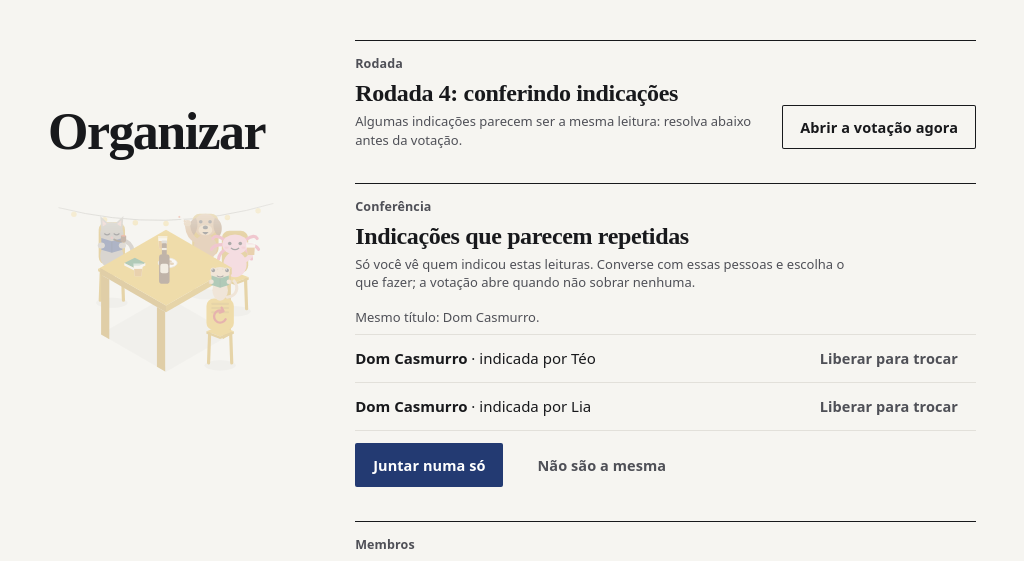
Test: ConflictsPanel › merges a group into one reading with a head start, and clears the review
Click the button "Juntar numa só" at (429, 465), box 355,443 -> 504,487
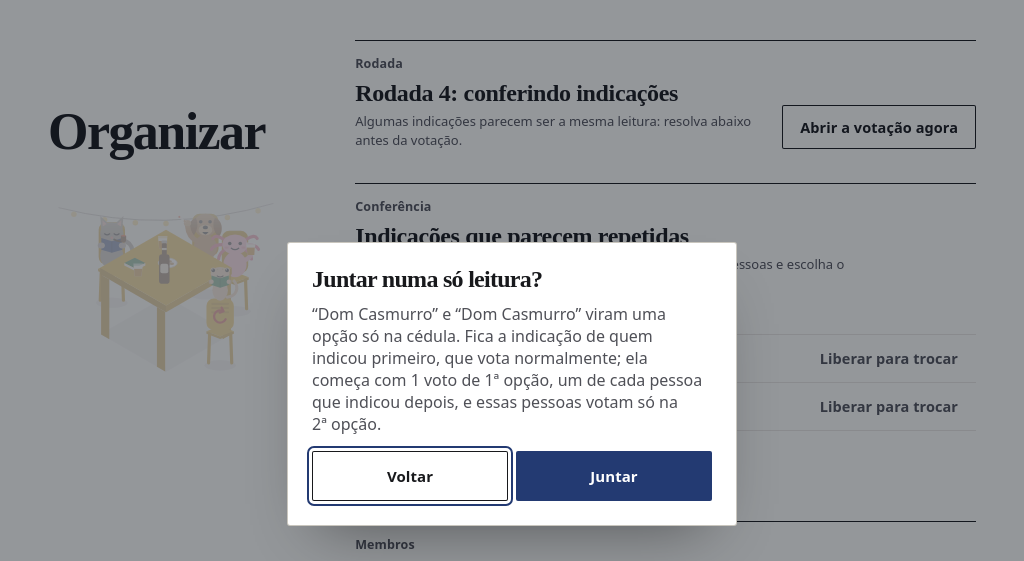
Check: the text "começa com 1 voto de 1ª opção" is shown, box 312,303 -> 702,435
Click the button "Juntar" at (614, 476), box 516,451 -> 712,501
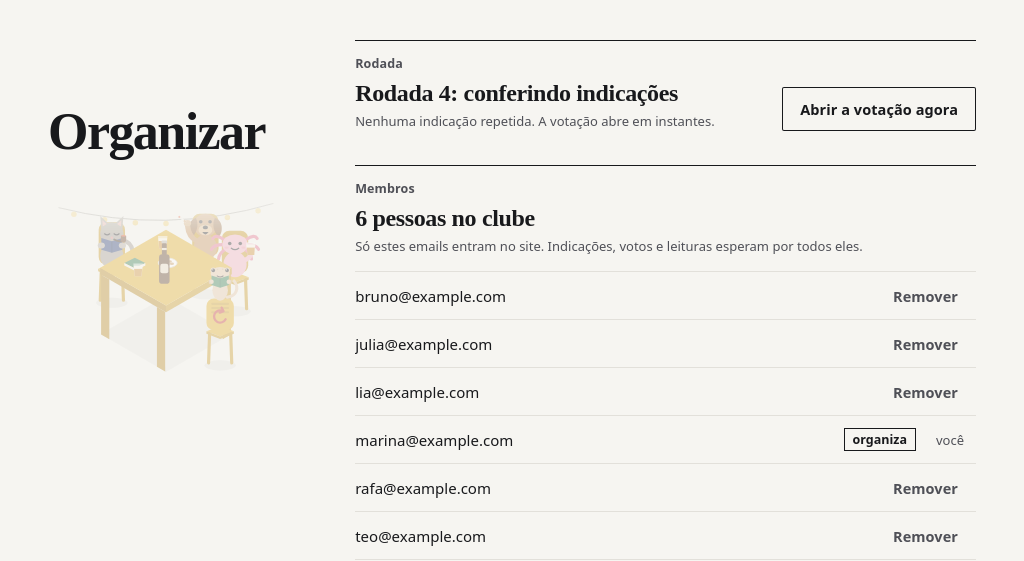
Check: the text "Nenhuma indicação repetida. A votação abre em instantes." is shown, box 355,112 -> 766,131
